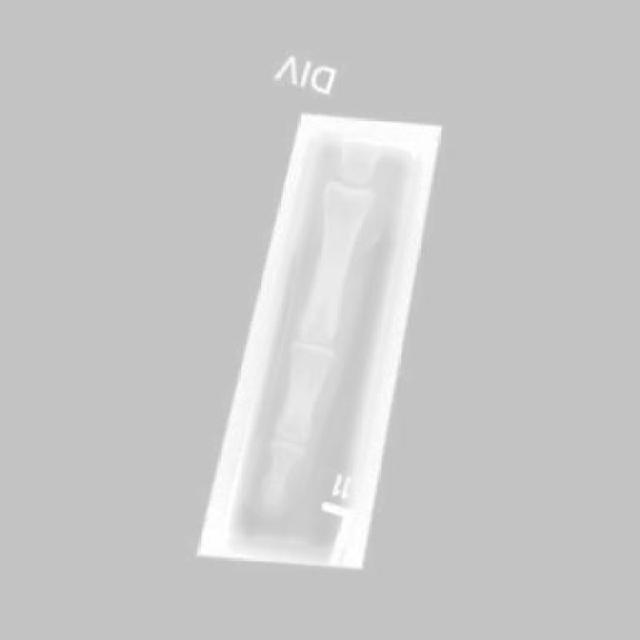Fracture: (251, 465, 290, 508)
